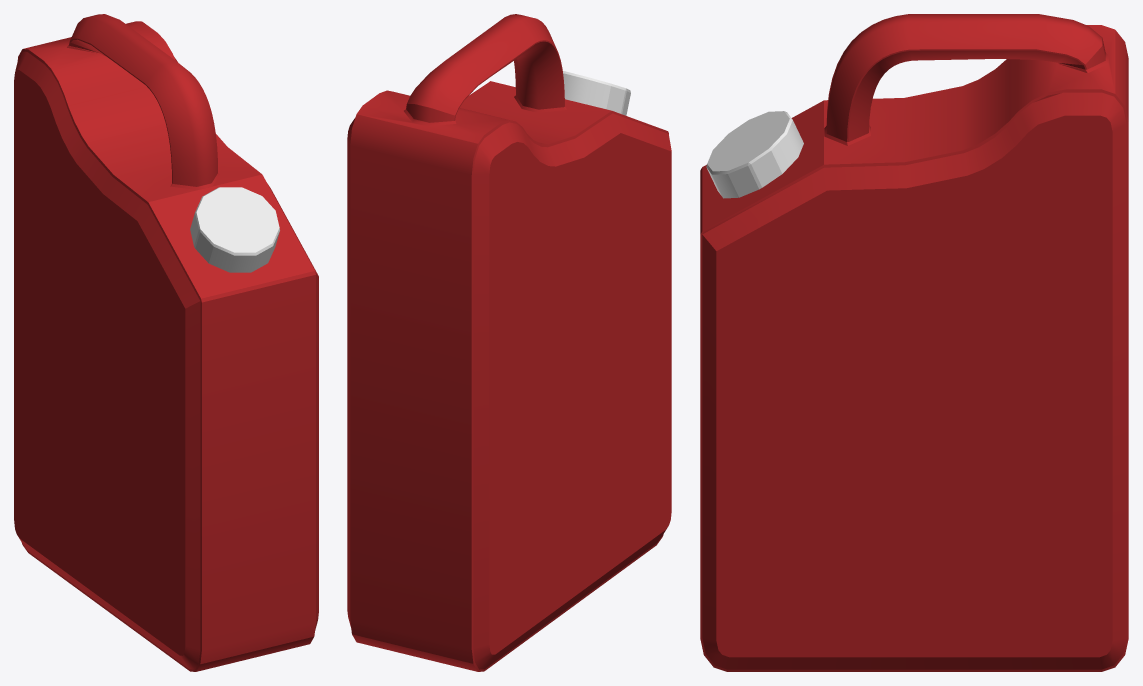
File: canister.fbx
3 renders of one model, left to right at view 1: azimuth 30°, elevation 25°; view 2: azimuth 150°, elevation 25°; view 3: azimuth 270°, elevation 25°, orthographic. The views are drawn at different scales.
Visible parts, largest first — view 1: Cube; view 2: Cube; view 3: Cube.
Part boxes in pixels (x1,y1,x2,y2): Cube: (14, 14, 318, 671); Cube: (347, 14, 671, 671); Cube: (700, 14, 1128, 671).
Bounding box in the file's own units: 126 × 486 × 304.
